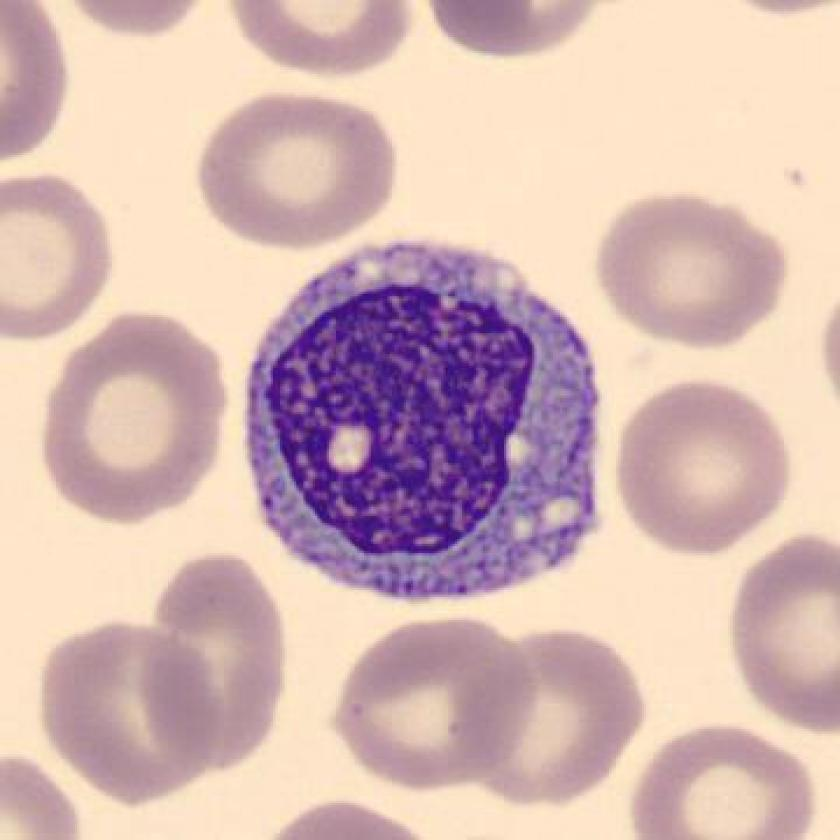monocyte: (223, 230, 631, 614)
